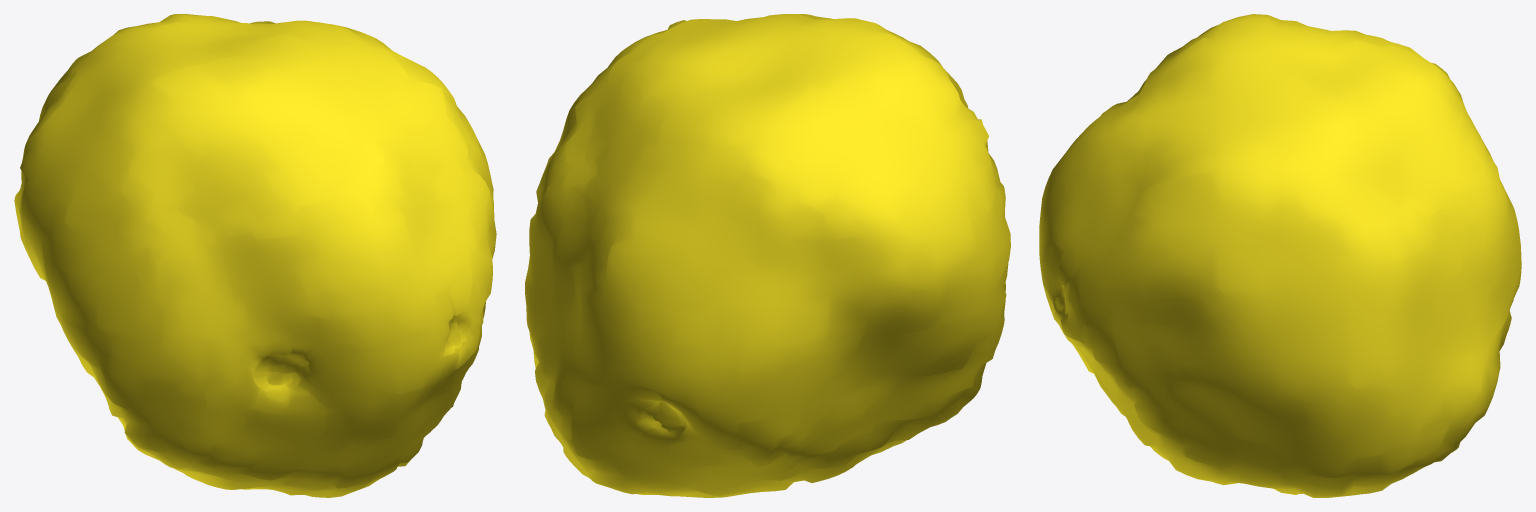
The model's file is asteroid_variant4.obj.
The picture shows the model from 3 angles, left to right: view 1: azimuth 30°, elevation 25°; view 2: azimuth 150°, elevation 25°; view 3: azimuth 270°, elevation 25°; orthographic projection. The views are drawn at different scales.
Parts seen in each view (by area): view 1: 10464_Asteroid_v1_Iterations-2; view 2: 10464_Asteroid_v1_Iterations-2; view 3: 10464_Asteroid_v1_Iterations-2.
Boxes of the visible parts, box(x1,y1,x2,y2) form: 10464_Asteroid_v1_Iterations-2: box(14, 14, 496, 497); 10464_Asteroid_v1_Iterations-2: box(525, 14, 1010, 497); 10464_Asteroid_v1_Iterations-2: box(1039, 14, 1521, 497).
Bounding box in the file's own units: 2.46 × 2.47 × 2.71.
